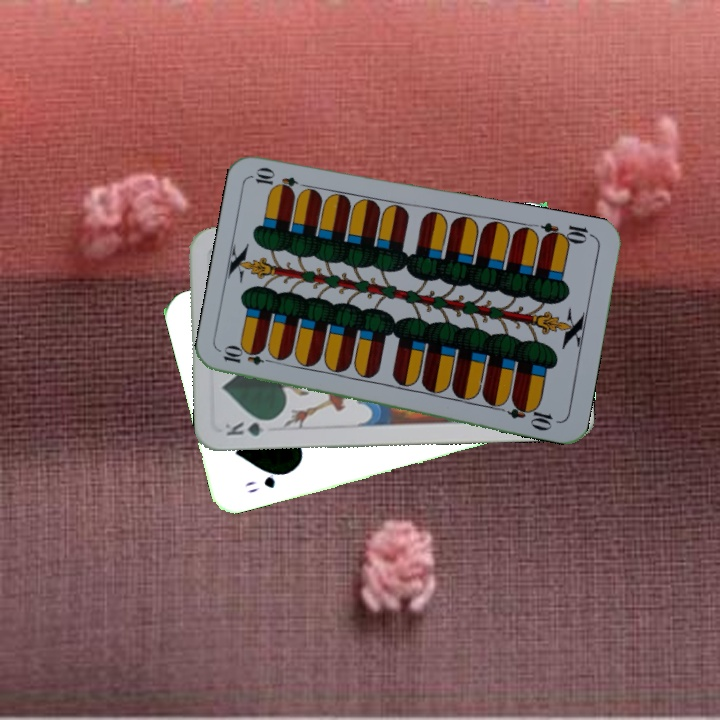E10: (538, 218, 596, 247), (219, 345, 278, 368)
GK: (221, 416, 278, 439)
GO: (241, 468, 292, 496)
